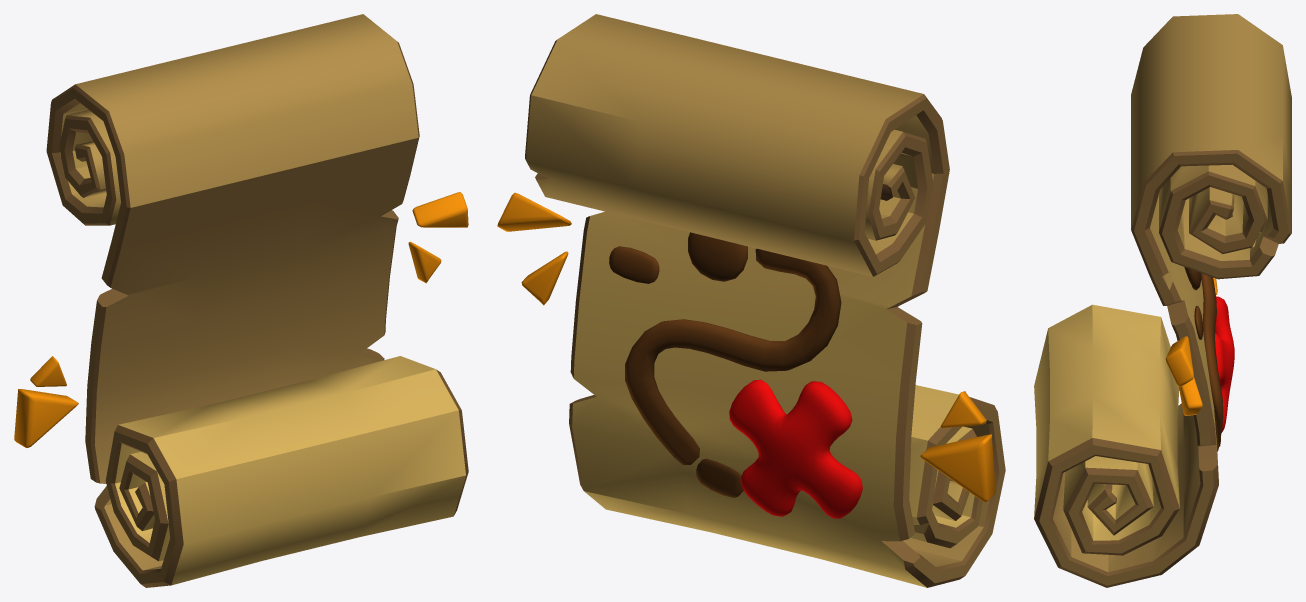
File: Map_V1_0.fbx
The picture shows the model from 3 angles, left to right: view 1: azimuth 30°, elevation 25°; view 2: azimuth 150°, elevation 25°; view 3: azimuth 270°, elevation 25°; orthographic projection. The views are drawn at different scales.
Parts seen in each view (by area): view 1: Map_V1_0; view 2: Map_V1_0; view 3: Map_V1_0.
Boxes of the visible parts, box(x1,y1,x2,y2) form: Map_V1_0: box(14, 14, 468, 587); Map_V1_0: box(497, 14, 1005, 587); Map_V1_0: box(1034, 14, 1291, 587).
Bounding box in the file's own units: 0.4036 × 0.3981 × 0.2117.
